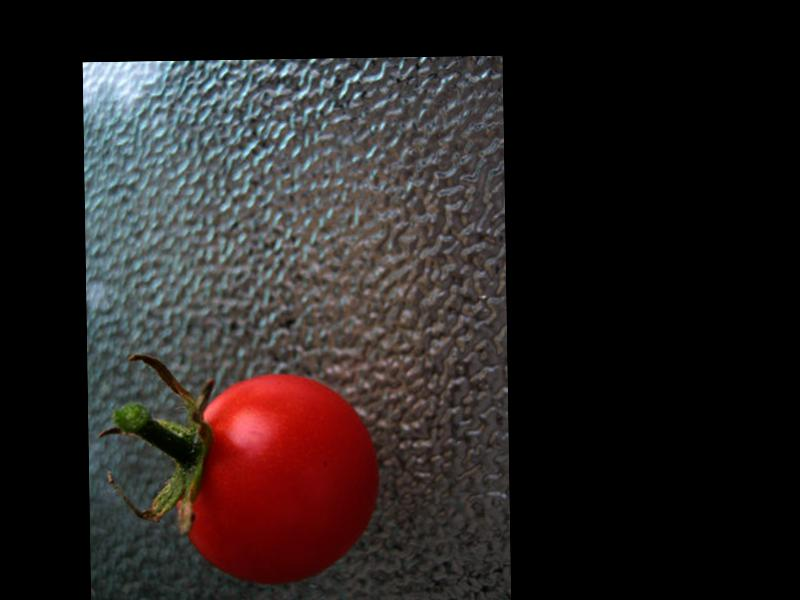Tomato: (184, 369, 381, 583)
